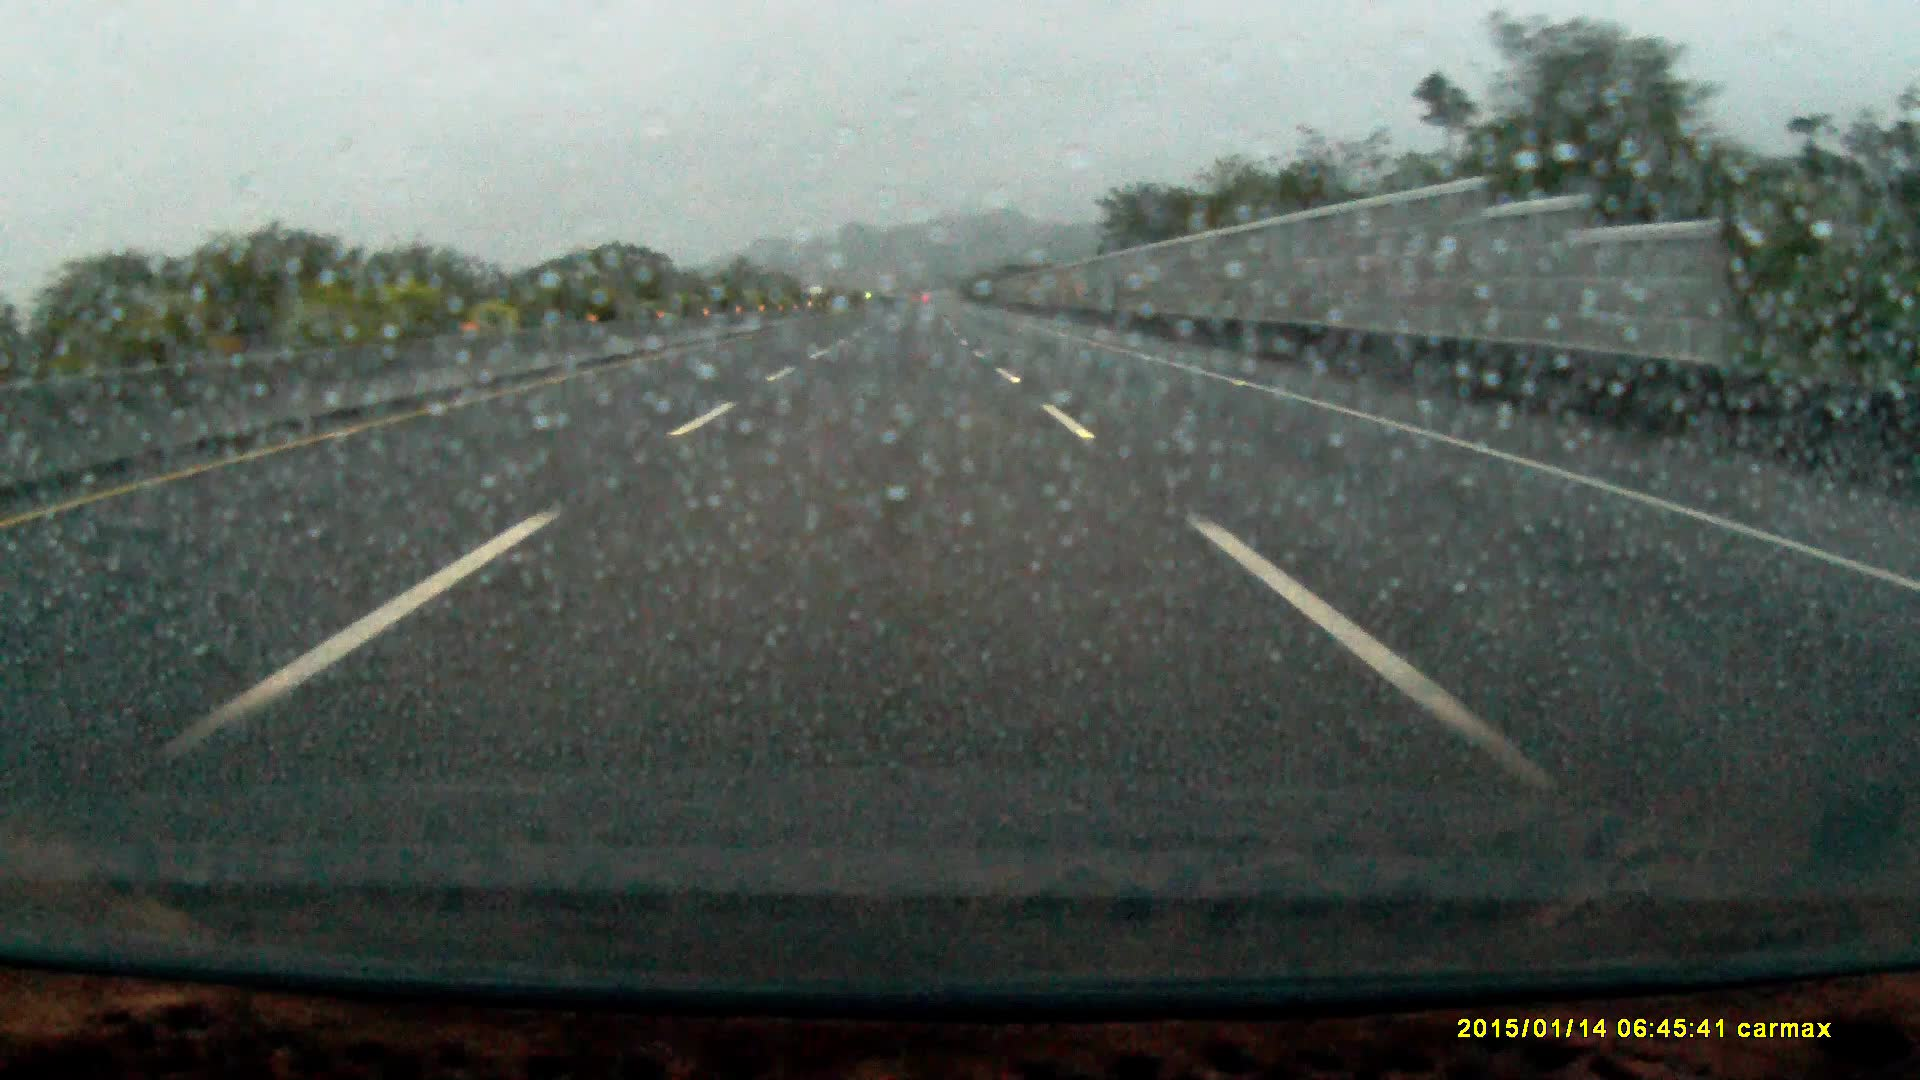vehicle: (807, 287, 828, 309)
